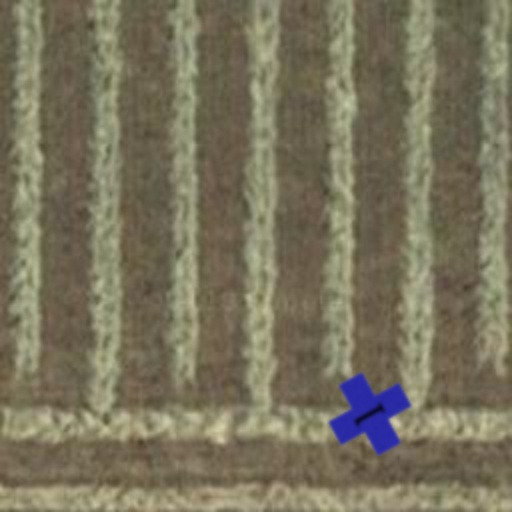cross: (314, 358, 426, 470)
